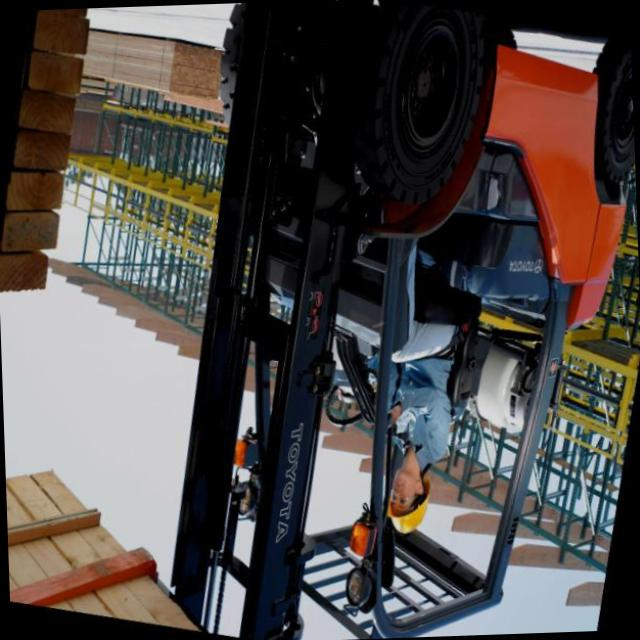driver: (304, 221, 494, 550)
forklift: (107, 0, 640, 640)
